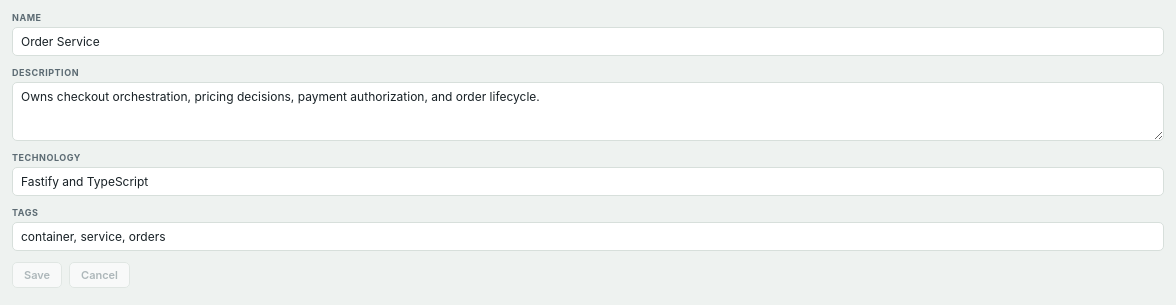
Test case: ElementInspectorForm › cancels with the Escape key without letting it reach the surrounding app
Replace the text in the field labelled "Name" with "Discarded" at (588, 42), box [12,27,1164,56]
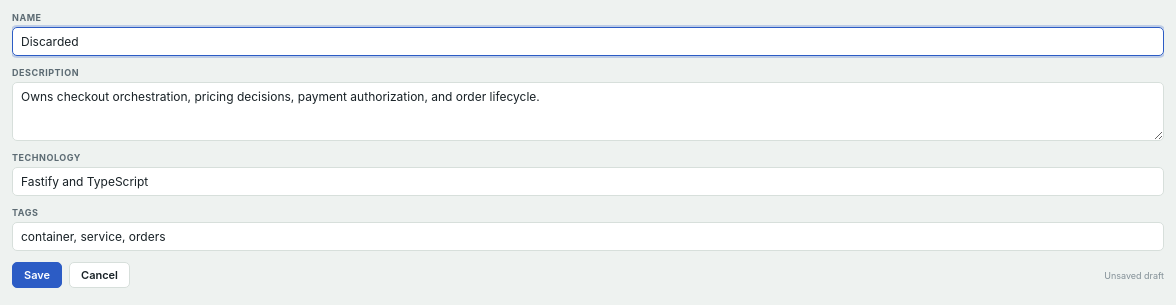
Press Escape
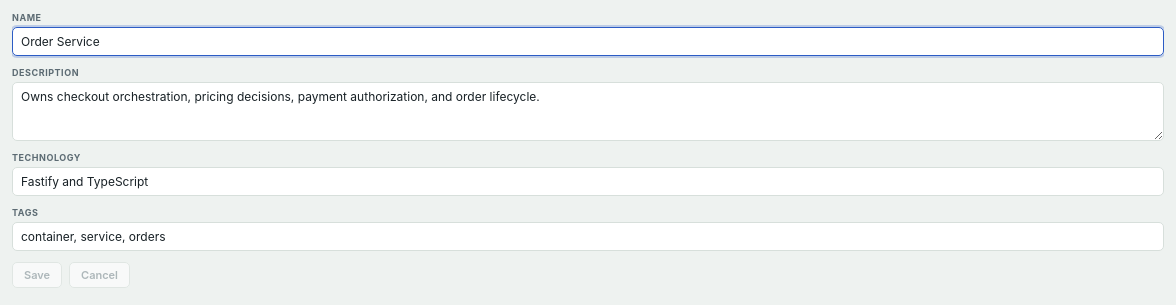
Expected: the field labelled "Name" holds "Order Service", [12,27,1164,56]
